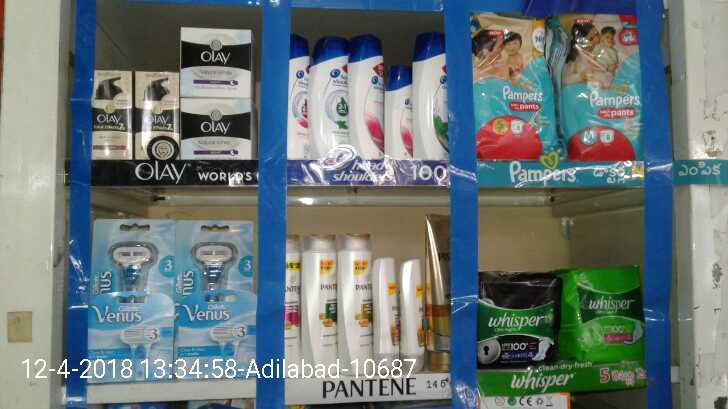venus: (92, 221, 173, 375), (173, 220, 253, 375)
